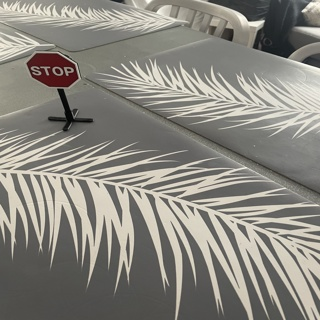sign_stop: (22, 48, 80, 90)
